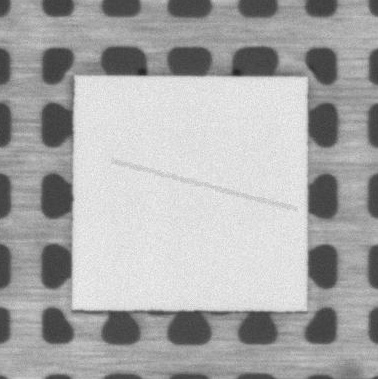DIE_CRACK: (113, 161, 295, 210)
